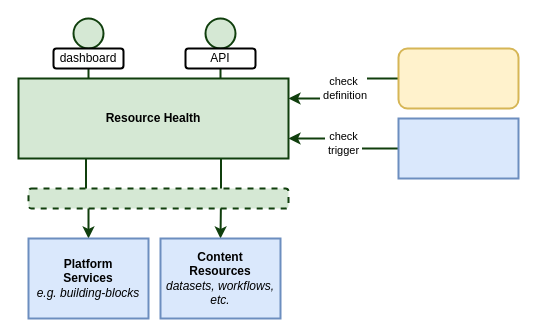
This 536x336 diagram has some shape labels left out. The shapes that lost their labels are listed below. From the top down, each one's centre as x and y in pixels, then its label:
point 458,78: Git Repo
point 458,148: Notification & Automation
point 158,198: resource checks
